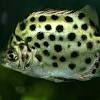Scat Fish: (1, 4, 100, 83)
